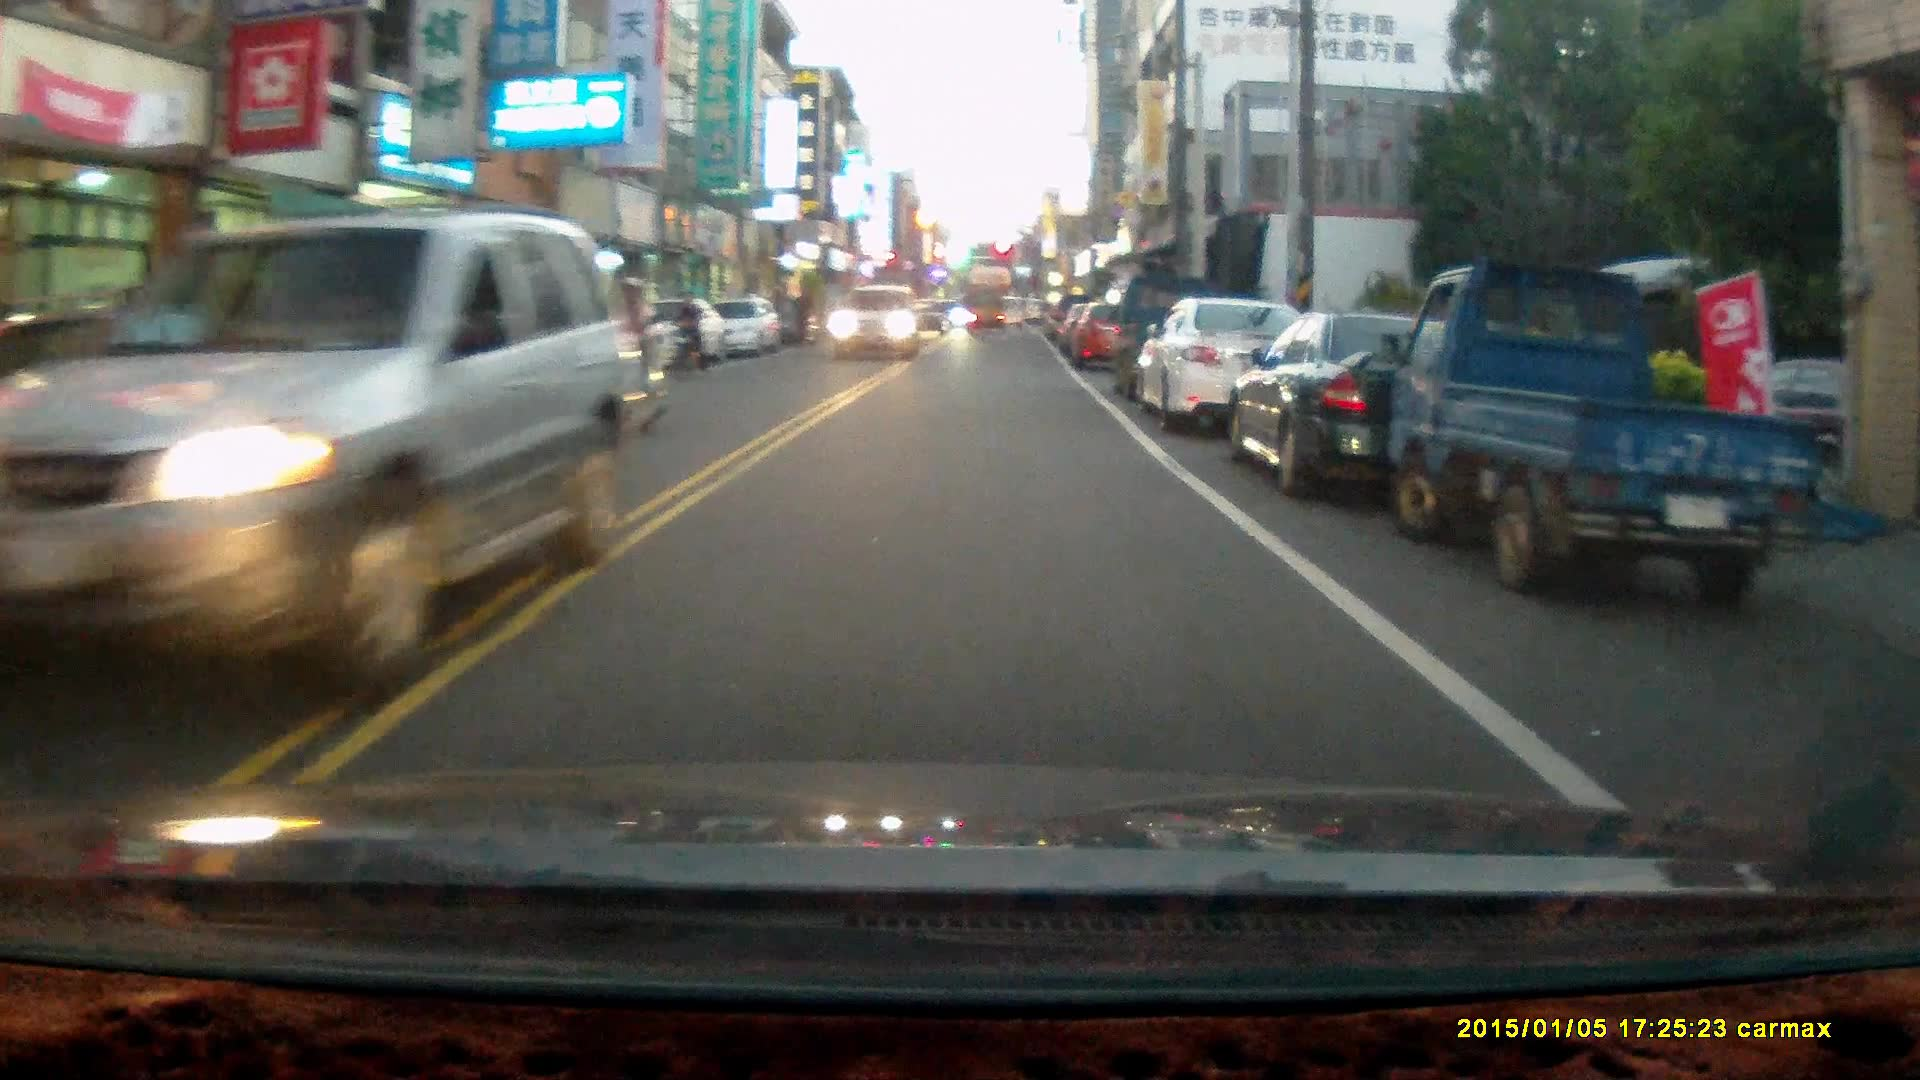pedestrian: (792, 283, 813, 343)
rider: (588, 273, 669, 446), (668, 291, 710, 375)
vehicle: (1, 207, 637, 694), (1387, 260, 1850, 603), (1226, 310, 1580, 508), (1135, 297, 1327, 439), (827, 285, 922, 365), (1071, 300, 1152, 374), (712, 295, 790, 362), (966, 286, 1007, 337)
